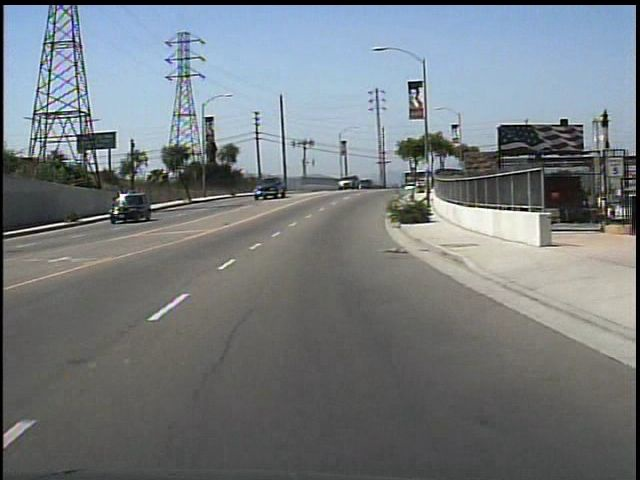person: (426, 172, 437, 197)
